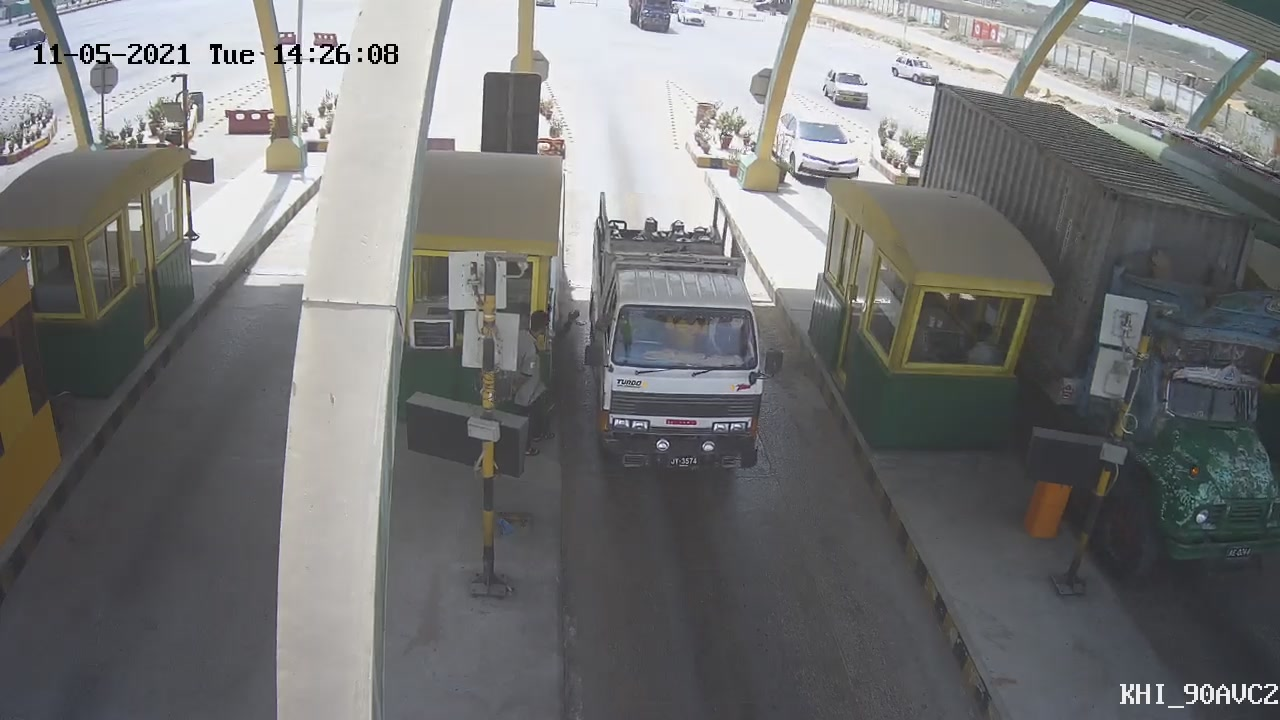F5: (585, 185, 788, 491)
